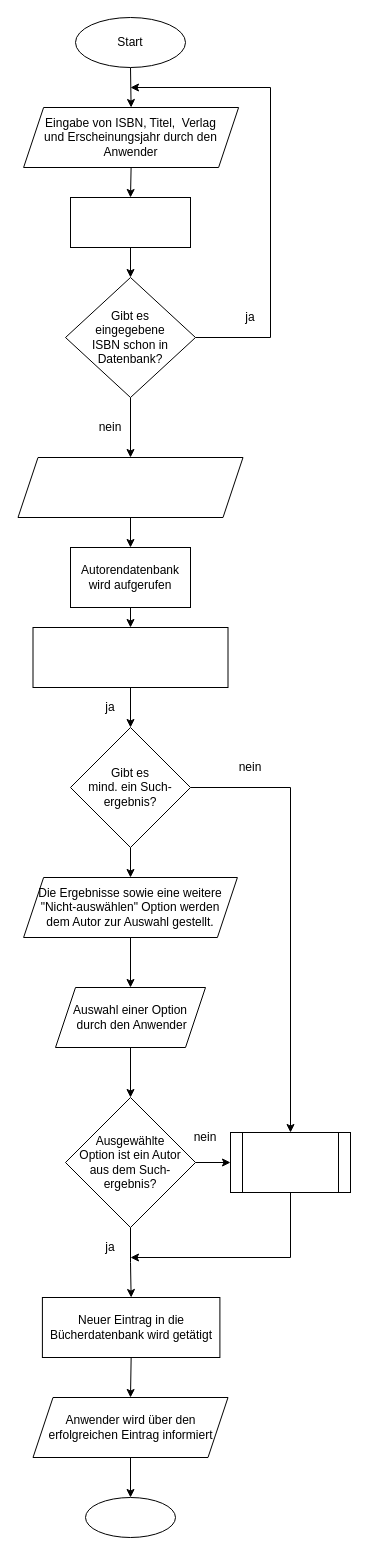
Image size: 368x1555. Some labels were removed from this diagram. Here are the shapes that lost their labels. From the top down, the centre of each, then its label:
the point at 130,222: Bücherdatenbank wird aufgerufen
the point at 130,487: Eingabe von Name oder Teil des Namens des Autors durch Anwender
the point at 130,657: Der eingegebene Name wird in der Autorendatenbank durchsucht
the point at 290,1162: Autor hinzufügen
the point at 130,1517: Ende
